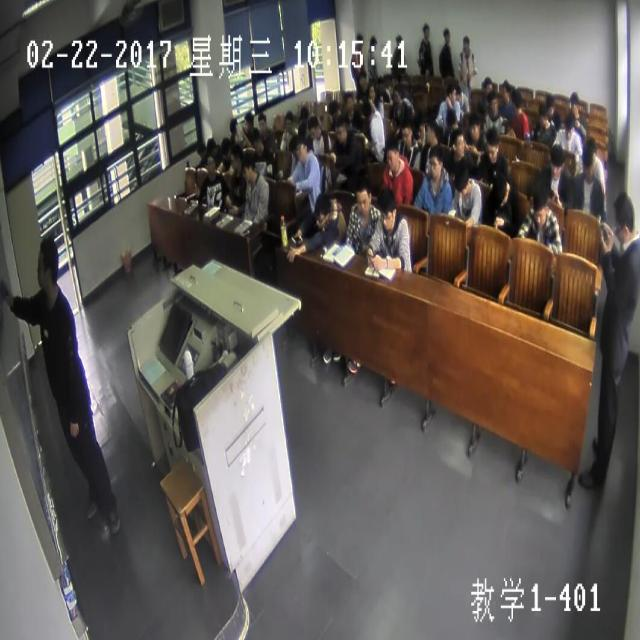person: (33, 235, 60, 288), (610, 190, 636, 244), (528, 182, 551, 230), (377, 188, 399, 232), (353, 176, 371, 216), (453, 158, 471, 198), (384, 134, 402, 172), (484, 125, 502, 163), (492, 172, 510, 209), (577, 143, 594, 179), (449, 123, 466, 158), (547, 144, 564, 179), (312, 193, 328, 230), (423, 117, 438, 150), (426, 147, 441, 180), (411, 110, 425, 144), (466, 110, 480, 144), (240, 150, 254, 183), (535, 98, 549, 128), (566, 90, 581, 118), (443, 78, 457, 105), (399, 117, 412, 145), (228, 140, 240, 170), (563, 110, 575, 140), (328, 95, 340, 124), (510, 85, 522, 114), (307, 114, 320, 140), (498, 76, 511, 102), (334, 117, 346, 145), (248, 128, 261, 153), (544, 90, 557, 115), (204, 152, 217, 176), (219, 134, 231, 160), (294, 135, 306, 161), (241, 110, 253, 135), (255, 108, 267, 133), (283, 108, 295, 132), (486, 91, 498, 115), (390, 84, 403, 106), (481, 72, 492, 97), (287, 135, 298, 158), (228, 114, 240, 135), (360, 98, 372, 119), (453, 83, 464, 105), (445, 109, 456, 130), (343, 86, 352, 111), (441, 21, 450, 45), (356, 67, 366, 88), (299, 102, 308, 123), (461, 31, 470, 52), (297, 122, 307, 140), (354, 31, 364, 49), (394, 32, 403, 52), (206, 136, 216, 153), (196, 140, 206, 156), (421, 22, 431, 38), (368, 31, 377, 48), (390, 71, 400, 86), (367, 82, 375, 100), (376, 76, 384, 93)
